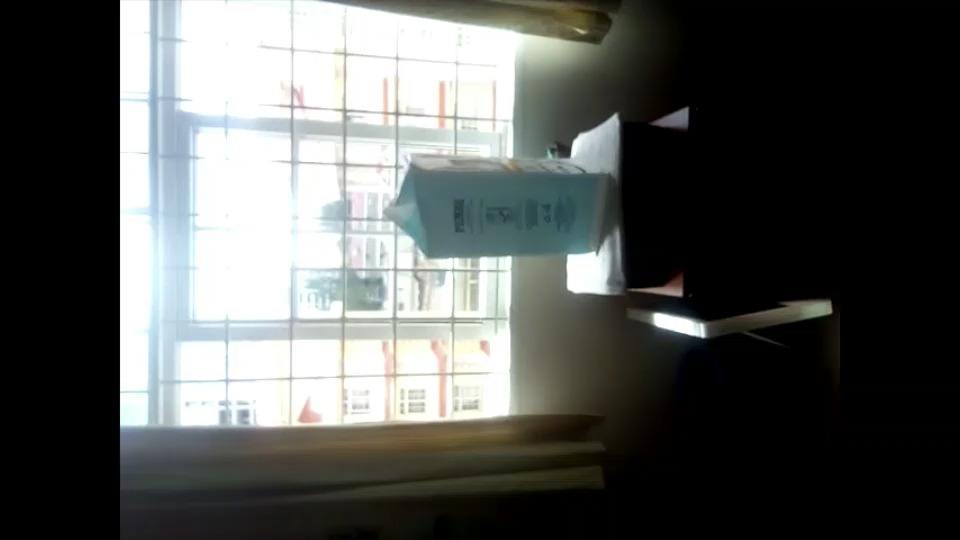wheat_flour_blue_label: (402, 150, 602, 257)
